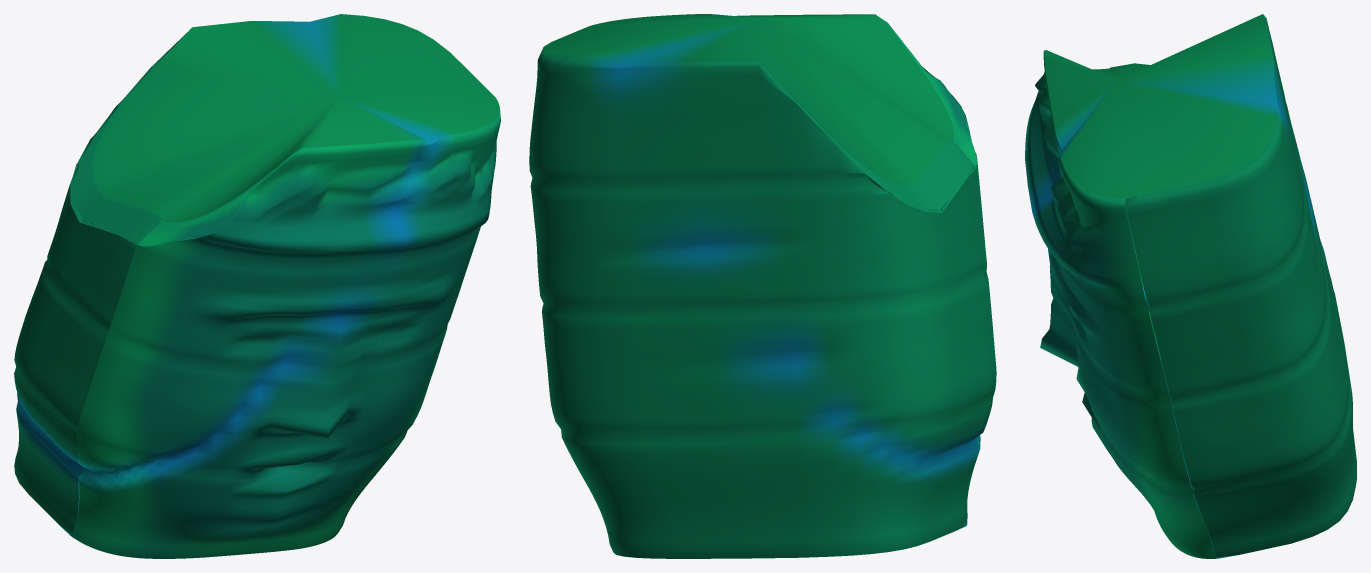
Rendered from watcher_head_cracked.glb.
3 views of the same model, side by side, from view 1: azimuth 30°, elevation 25°; view 2: azimuth 150°, elevation 25°; view 3: azimuth 270°, elevation 25° (orthographic). The views are drawn at different scales.
Visible parts, largest first — view 1: watcher_head_cracked; view 2: watcher_head_cracked; view 3: watcher_head_cracked.
Boxes of the visible parts, x1=… form: watcher_head_cracked: x1=14, y1=14, x2=500, y2=558; watcher_head_cracked: x1=529, y1=14, x2=996, y2=558; watcher_head_cracked: x1=1025, y1=14, x2=1356, y2=558.
Size of what is drawn, in the model's own units: 2.33 by 2.71 by 1.66.
